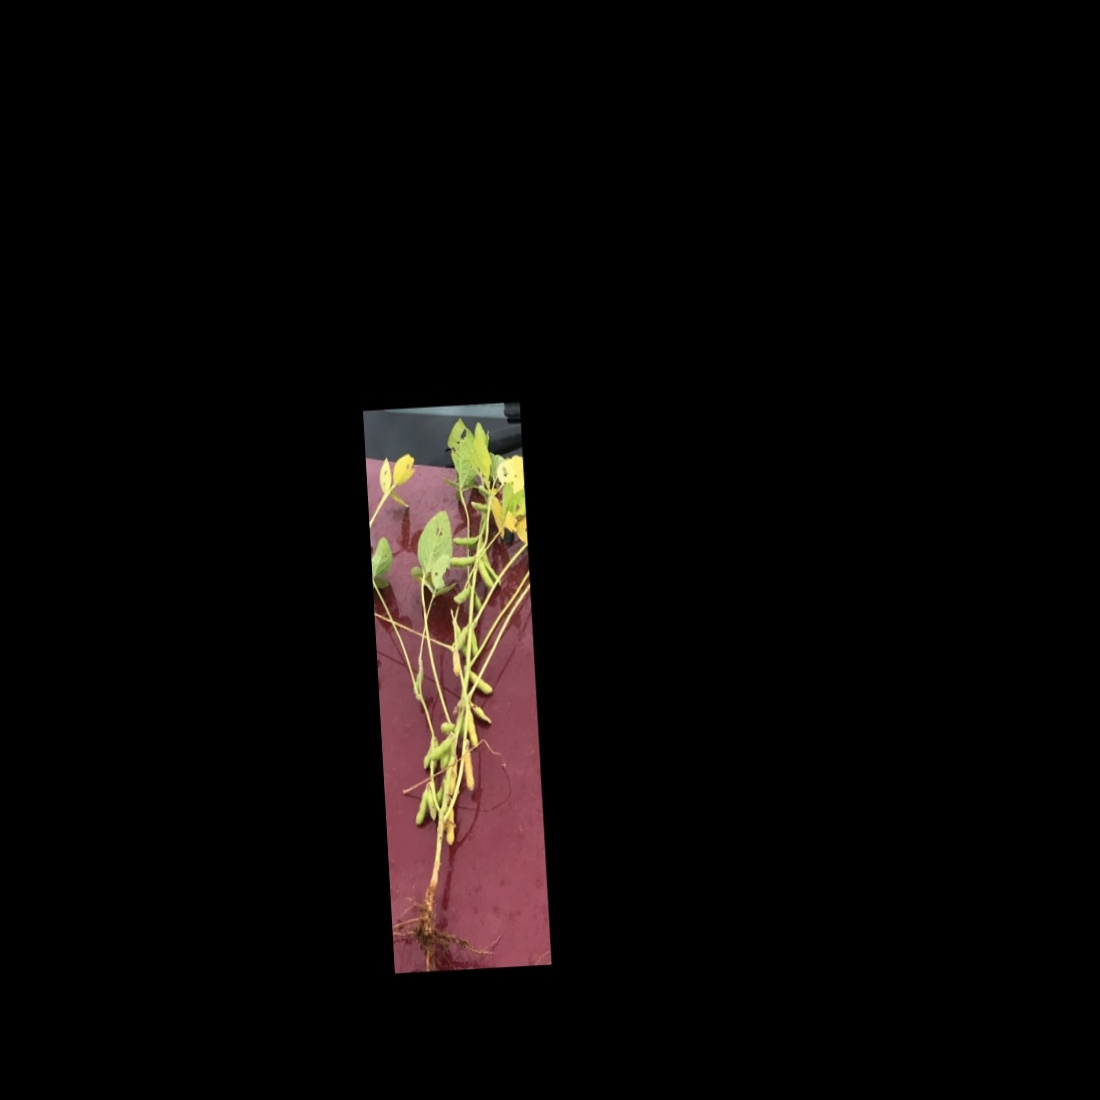pod: (408, 783, 436, 829), (461, 737, 479, 793), (466, 667, 495, 695), (449, 621, 471, 656), (449, 581, 475, 606), (445, 552, 478, 568), (465, 496, 490, 517), (449, 534, 482, 548)
soy: (365, 418, 546, 965)
